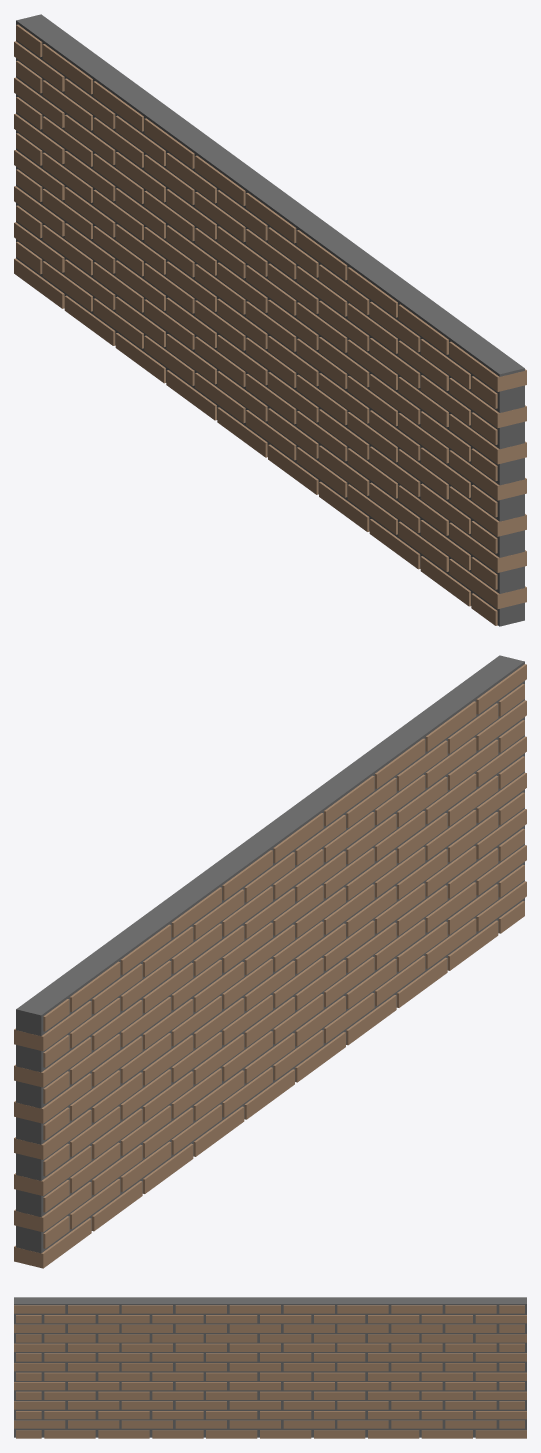
The model's file is レンガ().glb.
3 views of the same model, one above another, from view 1: azimuth 30°, elevation 25°; view 2: azimuth 150°, elevation 25°; view 3: azimuth 270°, elevation 25° (orthographic). The views are drawn at different scales.
Parts seen in each view (by area): view 1: 立方体.121; view 2: 立方体.121; view 3: 立方体.121.
Boxes of the visible parts, x1,y1,x2,y2 form: 立方体.121: (14,14,526,626); 立方体.121: (14,655,526,1268); 立方体.121: (14,1297,526,1438).
Size of the model in its own units: 0.42 by 3.46 by 11.99.
